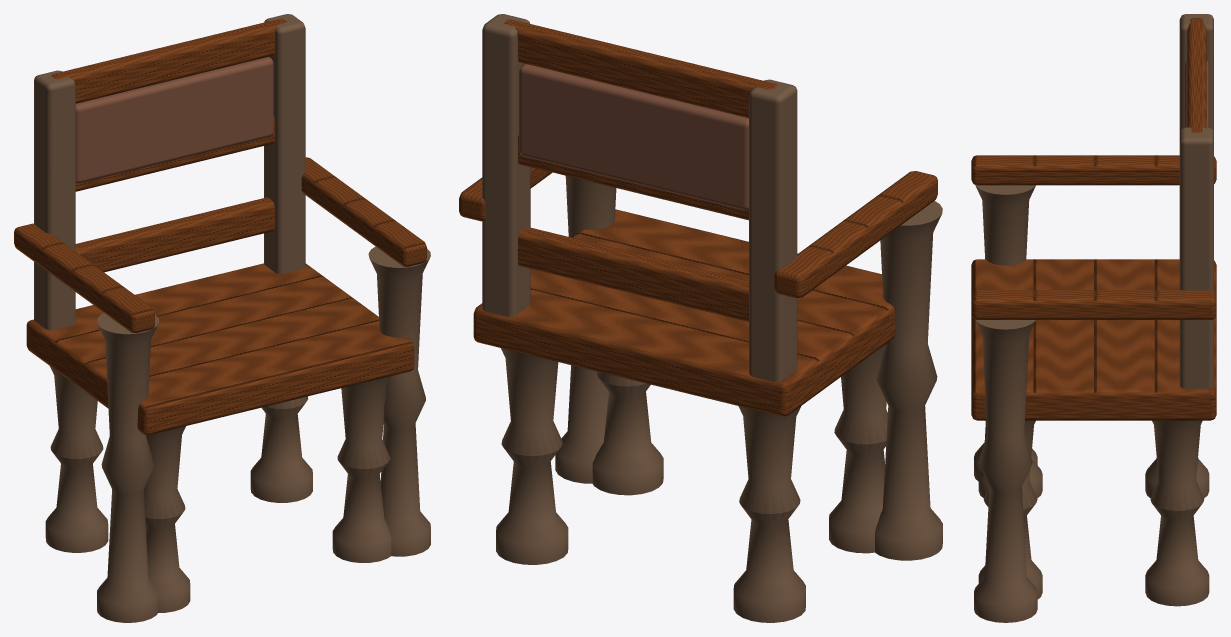
File: adventurers-tavern-and-guild-hall-captains-chair-79e3e260__24693.glb
3 views of the same model, side by side, from view 1: azimuth 30°, elevation 25°; view 2: azimuth 150°, elevation 25°; view 3: azimuth 270°, elevation 25° (orthographic). The views are drawn at different scales.
Visible parts, largest first — view 1: captains-chair; view 2: captains-chair; view 3: captains-chair.
Boxes of the visible parts, x1,y1,x2,y2 form: captains-chair: (14, 14, 430, 622); captains-chair: (459, 14, 942, 622); captains-chair: (971, 14, 1216, 622).
Bounding box in the file's own units: 0.78 × 1.05 × 0.5.
Materials: 3 (1 with a texture image).
